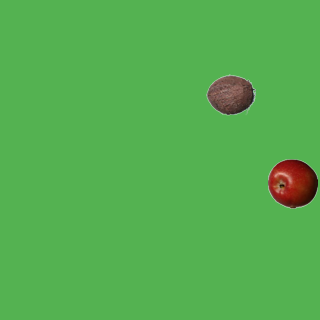Apple Braeburn: (267, 158, 317, 208)
Cocos: (205, 69, 255, 119)
